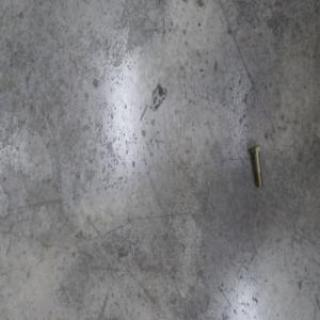Bolttrack_idkeyframe: (248, 143, 262, 188)
